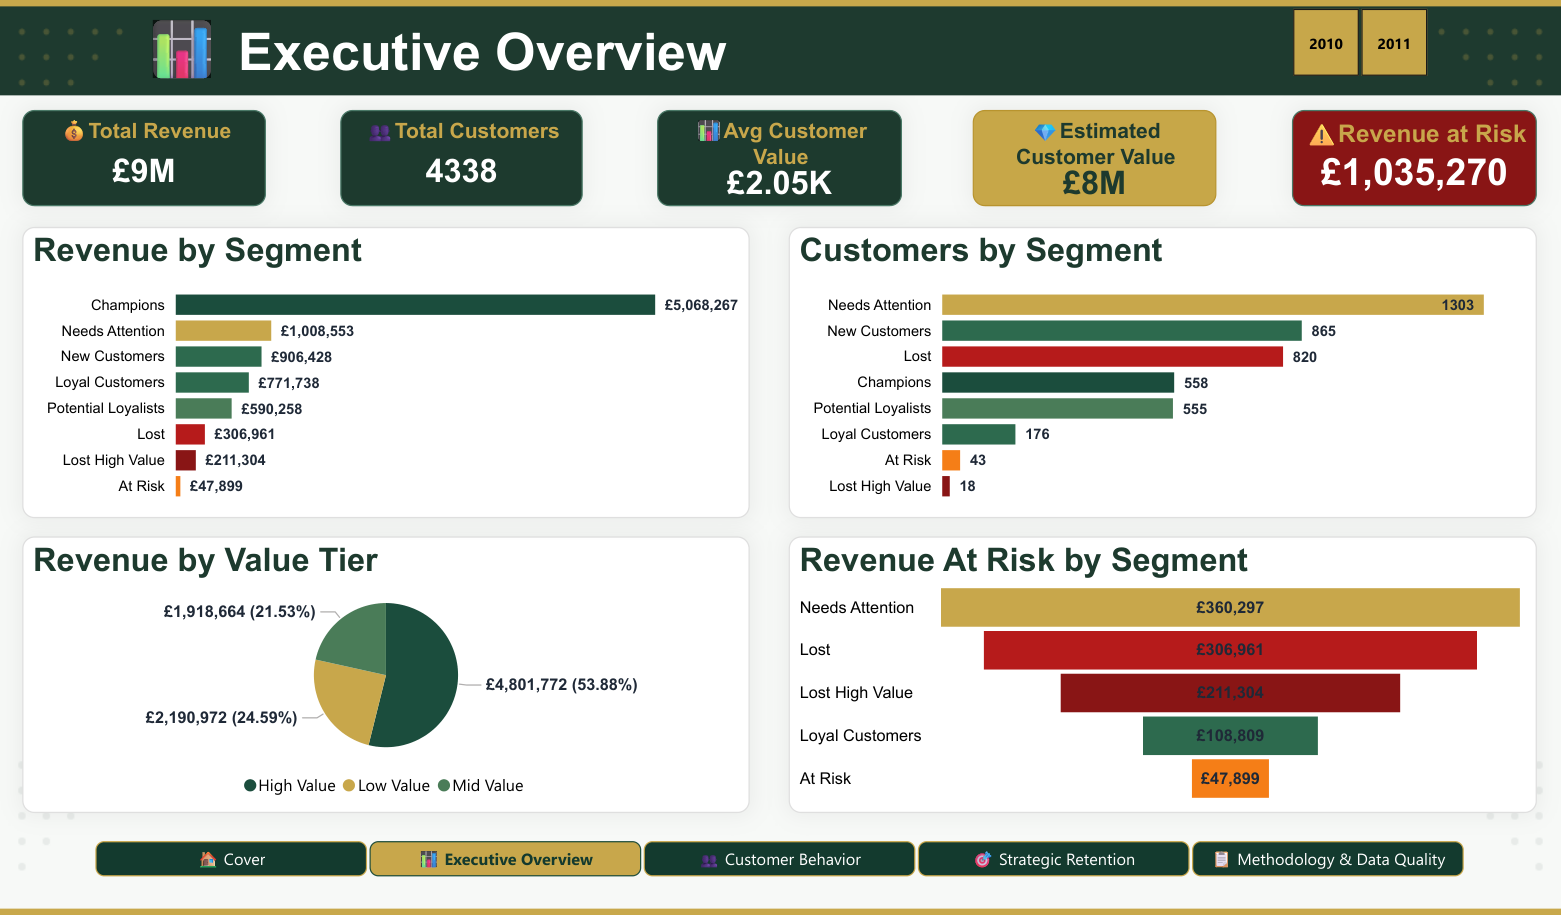

The page's visual inventory and layout, read from the dashboard file:
{"tool":"powerbi","page":{"name":"📊 Executive Overview","canvas":[1280,750],"ordinal":1},"visuals":[{"type":"textbox","box":[110.6,0,536.2,89.4],"z":0},{"type":"card","title":"💰Total Revenue","fields":{"Values":["Measure.Total Revenue"]},"box":[17.5,89.6,200.4,79],"z":1000},{"type":"card","title":"👥Total Customers","fields":{"Values":["Measure.Total Customers"]},"box":[278.9,89.6,199.5,79],"z":2000},{"type":"card","title":"📊Avg Customer Value","fields":{"Values":["Measure.Avg Customer Value"]},"box":[539.4,89.6,200.4,79],"z":3000},{"type":"card","title":"⚠️Revenue at Risk","fields":{"Values":["Measure.Revenue At Risk"]},"box":[1060.3,89.6,200.4,79],"z":4000},{"type":"card","title":"💎Estimated Customer Value ","fields":{"Values":["Measure.Estimated Customer Value"]},"box":[798,89.6,199.5,79],"z":5000},{"type":"pieChart","title":"Revenue by Value Tier","fields":{"Category":["rfm_analysis gold_customer_insights.value_tier"],"Y":["Measure.Total Revenue"]},"box":[17.5,439.7,597.6,227.2],"z":6000},{"type":"barChart","title":"Revenue  by Segment","fields":{"Category":["rfm_analysis gold_customer_insights.segment"],"Y":["Measure.Total Revenue"]},"box":[17.5,185.7,597.6,239.2],"z":7000},{"type":"funnel","title":"Revenue At Risk by Segment","fields":{"Category":["rfm_analysis gold_customer_insights.segment"],"Y":["Measure.Revenue At Risk"]},"box":[646.6,439.7,614.2,227.2],"z":8000},{"type":"barChart","title":"Customers by Segment","fields":{"Category":["rfm_analysis gold_customer_insights.segment"],"Y":["Measure.Total Customers"]},"box":[646.6,185.7,614.2,239.2],"z":9000},{"type":"slicer","title":"Year","fields":{"Values":["Calendar.Year"]},"box":[1035.1,0,159.6,69.1],"z":10000},{"type":"pageNavigator","box":[78,689.6,1124,29.2],"z":11000}]}

Visuals, with their boxes in screenshot pixels (x1, y1, x2, y2), scaled from the page's 1280x750 canvas onto the 1561x915 screenshot:
textbox: [x1=135, y1=0, x2=789, y2=109]
"💰Total Revenue" card: [x1=21, y1=109, x2=266, y2=206]
"👥Total Customers" card: [x1=340, y1=109, x2=583, y2=206]
"📊Avg Customer Value" card: [x1=658, y1=109, x2=902, y2=206]
"⚠️Revenue at Risk" card: [x1=1293, y1=109, x2=1537, y2=206]
"💎Estimated Customer Value " card: [x1=973, y1=109, x2=1216, y2=206]
"Revenue by Value Tier" pieChart: [x1=21, y1=536, x2=750, y2=814]
"Revenue  by Segment" barChart: [x1=21, y1=227, x2=750, y2=518]
"Revenue At Risk by Segment" funnel: [x1=789, y1=536, x2=1538, y2=814]
"Customers by Segment" barChart: [x1=789, y1=227, x2=1538, y2=518]
"Year" slicer: [x1=1262, y1=0, x2=1457, y2=84]
pageNavigator: [x1=95, y1=841, x2=1466, y2=877]
